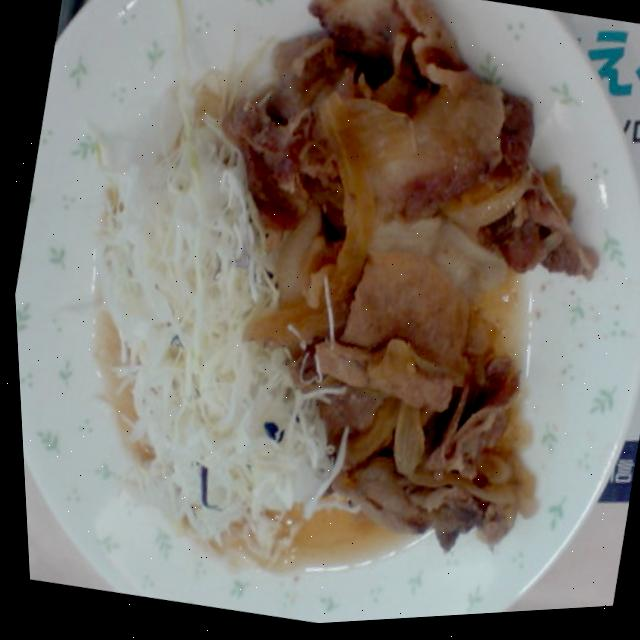猪肉菜式: (119, 0, 640, 599)
